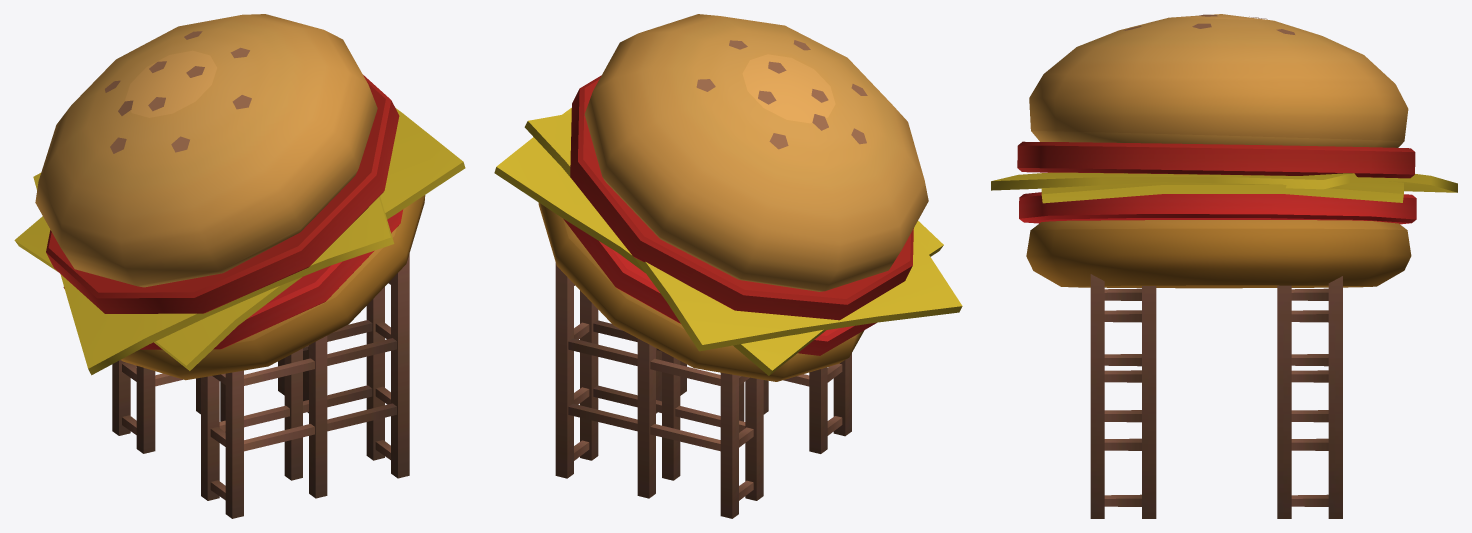
The model's file is BurgerSign_2_D.fbx.
3 views of the same model, side by side, from view 1: azimuth 30°, elevation 25°; view 2: azimuth 150°, elevation 25°; view 3: azimuth 270°, elevation 25° (orthographic). The views are drawn at different scales.
Parts seen in each view (by area): view 1: BurgerSign_2_D; view 2: BurgerSign_2_D; view 3: BurgerSign_2_D.
Part boxes in pixels (x1=…): BurgerSign_2_D: x1=14, y1=14, x2=465, y2=518; BurgerSign_2_D: x1=494, y1=14, x2=962, y2=518; BurgerSign_2_D: x1=991, y1=14, x2=1457, y2=518.
Size of the model in its own units: 358 by 402 by 388.
